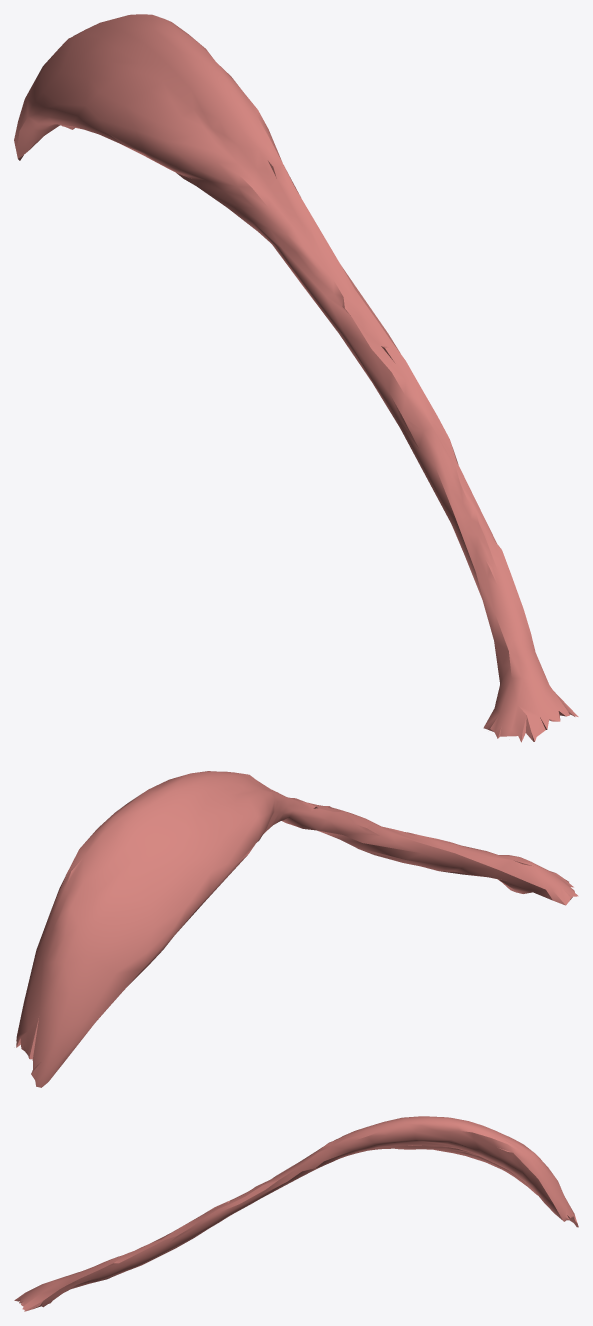
The model's file is fma51144_mm1733m.glb.
The picture shows the model from 3 angles, top to bottom: view 1: azimuth 30°, elevation 25°; view 2: azimuth 150°, elevation 25°; view 3: azimuth 270°, elevation 25°; orthographic projection. The views are drawn at different scales.
Parts seen in each view (by area): view 1: FMA51144_MM1733M; view 2: FMA51144_MM1733M; view 3: FMA51144_MM1733M.
Boxes of the visible parts, left/top/right/bottom form: FMA51144_MM1733M: left=14, top=14, right=578, bottom=742; FMA51144_MM1733M: left=16, top=771, right=578, bottom=1087; FMA51144_MM1733M: left=14, top=1116, right=578, bottom=1311.
Bounding box in the file's own units: 0.0139 × 0.046 × 0.1196.
